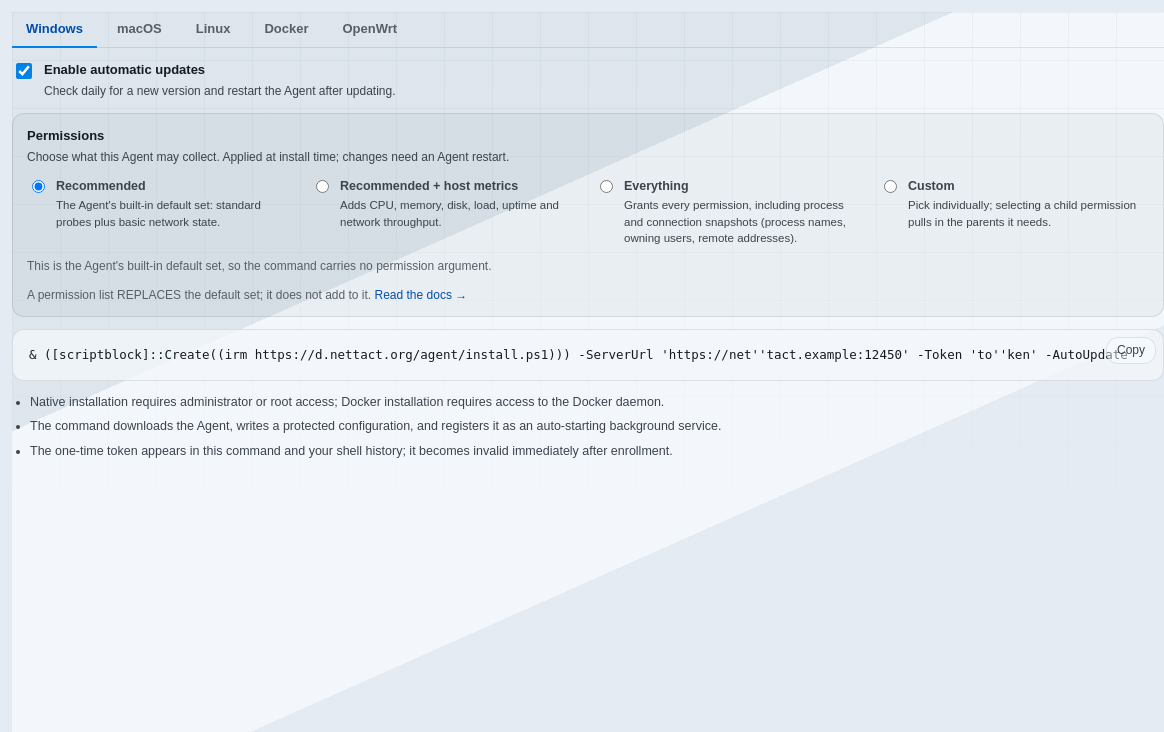
Test: EnrollExamples copy button › copies the install command without the async Clipboard API
Step 1. Click the button with class "copy" → (1131, 350), box [1106, 337, 1156, 364]
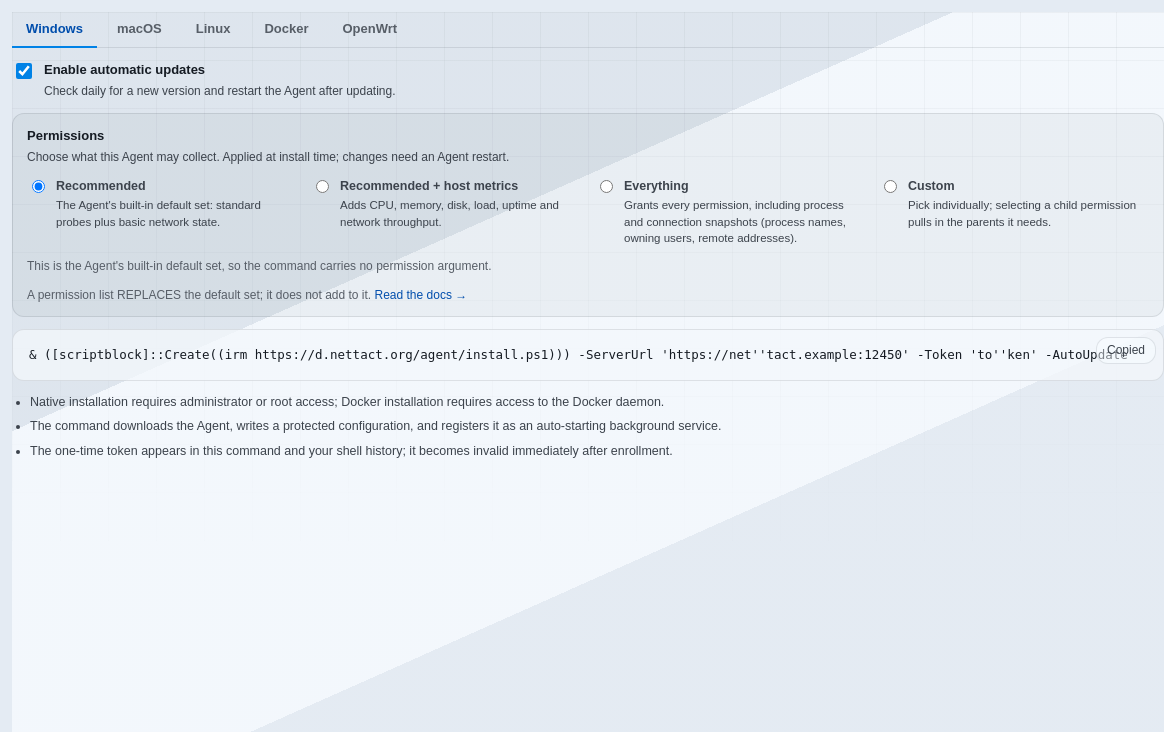
Expected: the button with class "copy" reads "Copied", [1096, 337, 1156, 364]
